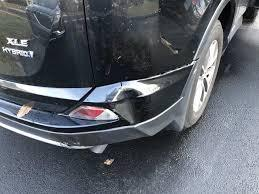rear-bumper-dent: (0, 83, 196, 143)
